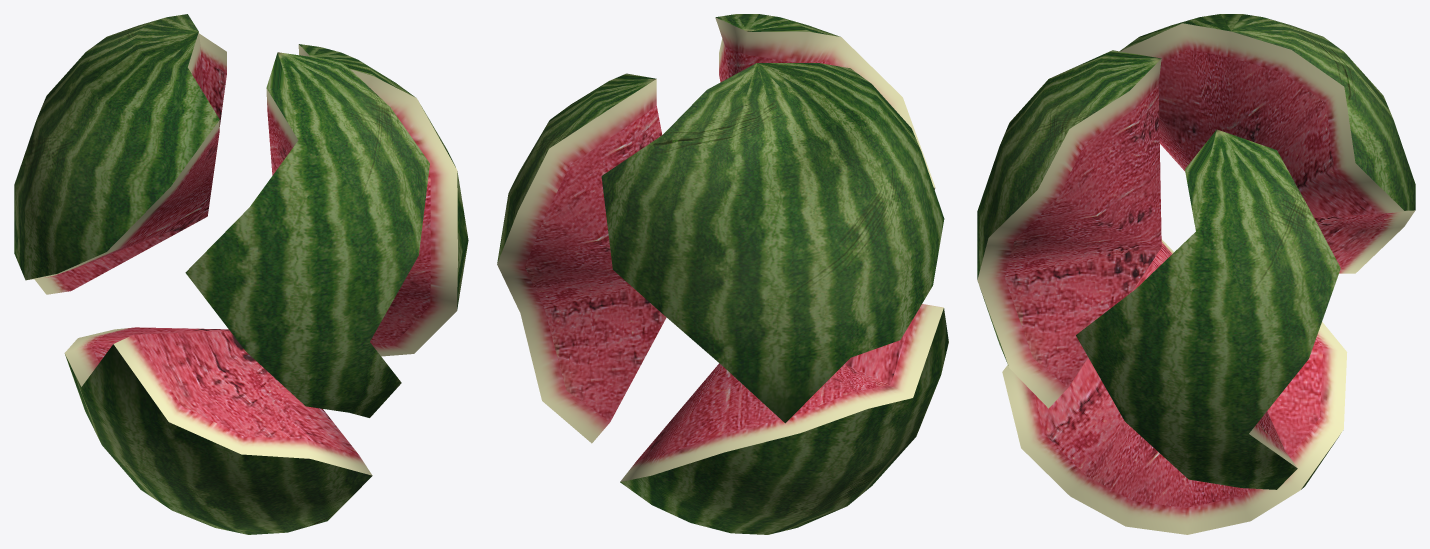
Rendered from Watermelon_broken.FBX.
The picture shows the model from 3 angles, left to right: view 1: azimuth 30°, elevation 25°; view 2: azimuth 150°, elevation 25°; view 3: azimuth 270°, elevation 25°; orthographic projection.
Visible parts, largest first — view 1: Watermelon_pt02, Watermelon_pt01, Watermelon_pt04, Watermelon_pt03; view 2: Watermelon_pt01, Watermelon_pt04, Watermelon_pt03, Watermelon_pt02; view 3: Watermelon_pt03, Watermelon_pt02, Watermelon_pt01, Watermelon_pt04.
Part boxes in pixels (left/top/right/bottom): Watermelon_pt02: left=185, top=52, right=429, bottom=417; Watermelon_pt01: left=14, top=14, right=226, bottom=294; Watermelon_pt04: left=64, top=327, right=372, bottom=534; Watermelon_pt03: left=298, top=44, right=468, bottom=356; Watermelon_pt01: left=601, top=63, right=944, bottom=423; Watermelon_pt04: left=620, top=304, right=948, bottom=534; Watermelon_pt03: left=497, top=73, right=666, bottom=443; Watermelon_pt02: left=715, top=14, right=935, bottom=189; Watermelon_pt03: left=1076, top=129, right=1340, bottom=489; Watermelon_pt02: left=977, top=50, right=1161, bottom=408; Watermelon_pt01: left=1120, top=14, right=1415, bottom=273; Watermelon_pt04: left=1002, top=239, right=1347, bottom=534.
Bounding box in the file's own units: 109 × 125 × 105.
